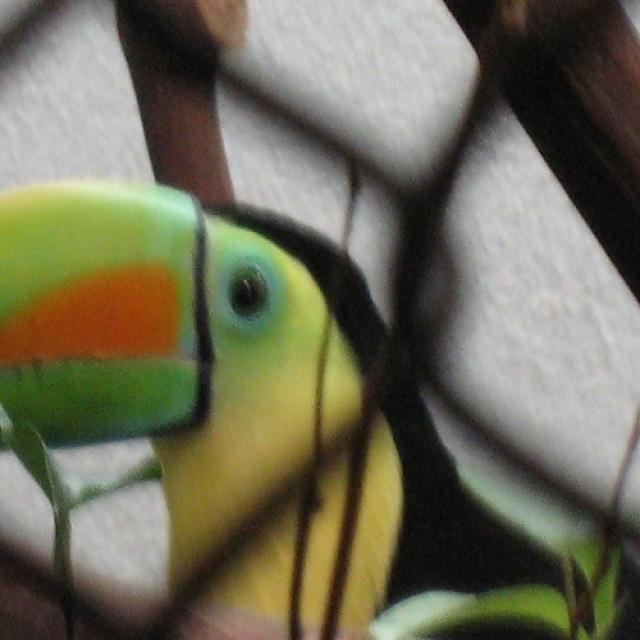bird: (2, 167, 638, 638)
